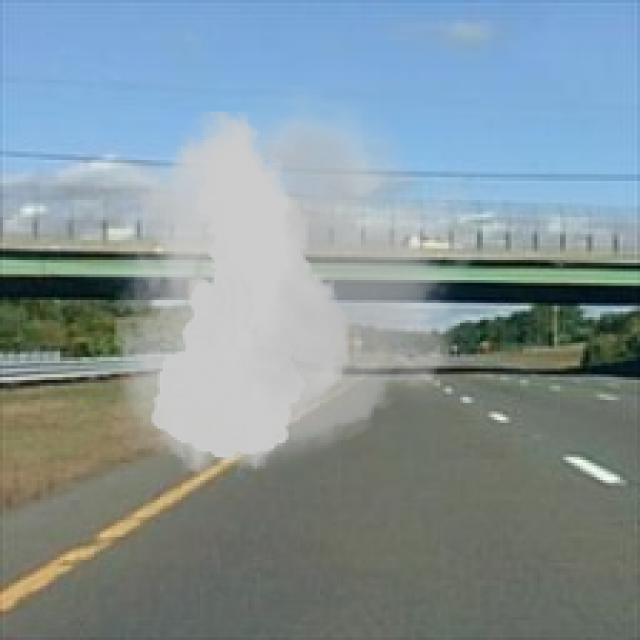Smoke: (82, 86, 498, 486)
